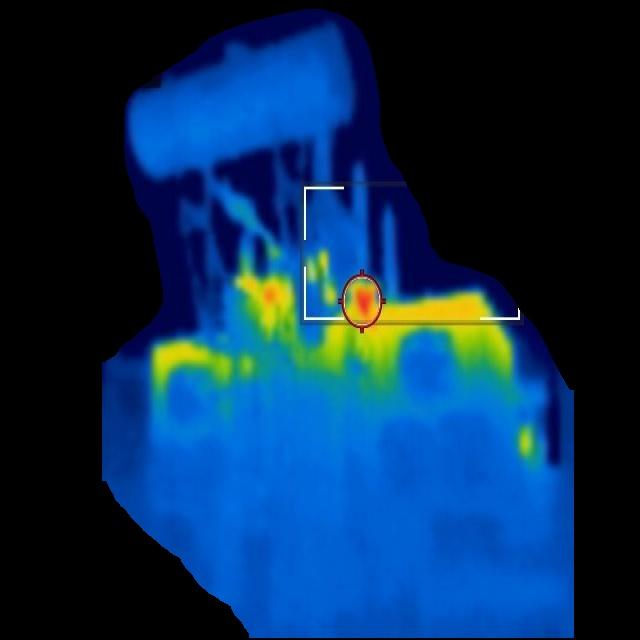Loose Joint F: (240, 282, 288, 321), (349, 286, 378, 329)
Transformer Overload: (156, 296, 515, 397)
